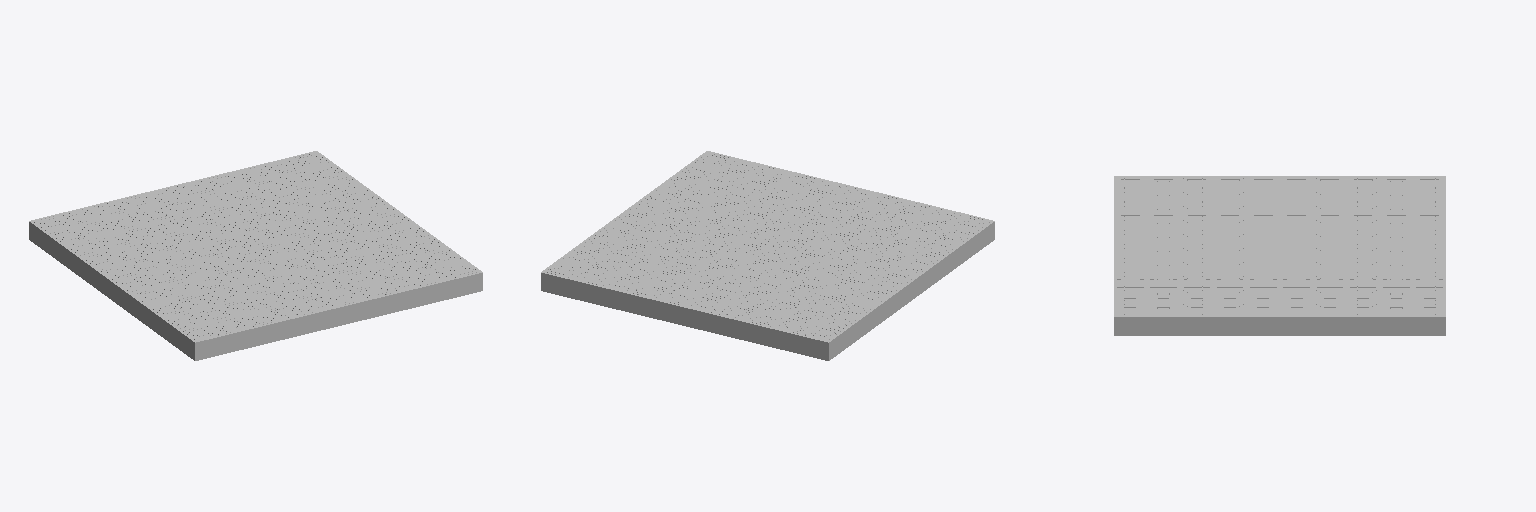
Rendered from Panel 500x500.obj.
3 views of the same model, side by side, from view 1: azimuth 30°, elevation 25°; view 2: azimuth 150°, elevation 25°; view 3: azimuth 270°, elevation 25° (orthographic).
Parts seen in each view (by area): view 1: Panel_500x500; view 2: Panel_500x500; view 3: Panel_500x500.
Part boxes in pixels (bbox=[...]): Panel_500x500: bbox=[29, 151, 482, 360]; Panel_500x500: bbox=[541, 151, 994, 360]; Panel_500x500: bbox=[1114, 176, 1445, 335].
Size of the model in its own units: 32.5 by 2 by 32.5.